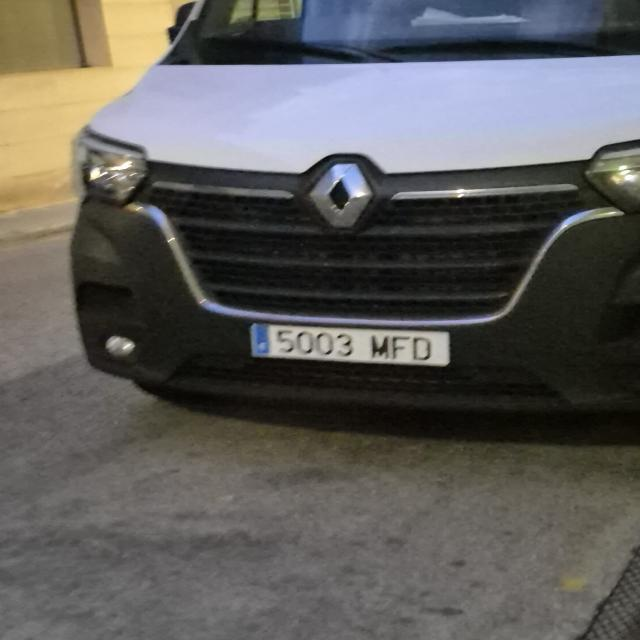license_plate-34Td: (251, 324, 449, 367)
